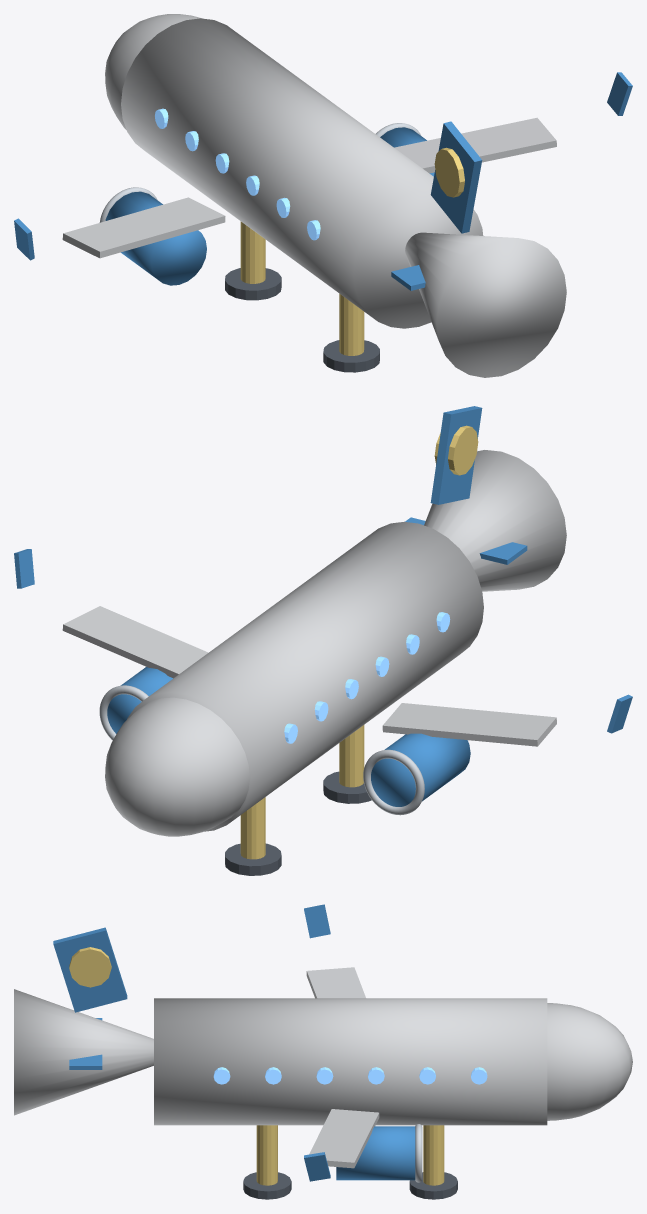
Rendered from airport_plane.glb.
3 views of the same model, one above another, from view 1: azimuth 30°, elevation 25°; view 2: azimuth 150°, elevation 25°; view 3: azimuth 270°, elevation 25° (orthographic). The views are drawn at different scales.
Parts seen in each view (by area): view 1: Cylinder, Cone, Cube.003, Cylinder.002, Cube.005, Sphere, Cube.001, Cylinder.018, Cylinder.016, Cylinder.017, Cylinder.019, Cylinder.001 (+4 smaller); view 2: Cylinder, Sphere, Cone, Cube.003, Cube.005, Cylinder.002, Cube.001, Cylinder.009, Torus, Cylinder.018, Cylinder.016, Cylinder.019 (+5 smaller); view 3: Cylinder, Cone, Sphere, Cylinder.009, Cube.001, Cube.005, Cube.003, Cylinder.001, Cylinder.018, Cylinder.016, Cylinder.017, Cylinder.019 (+4 smaller).
Part boxes in pixels (box(x1,y1,x2,y2)): Cylinder: box(121, 18, 483, 328); Cone: box(405, 232, 566, 377); Cube.003: box(62, 197, 225, 258); Cylinder.002: box(105, 191, 206, 285); Cube.005: box(394, 117, 556, 173); Sphere: box(105, 14, 202, 129); Cube.001: box(430, 121, 482, 233); Cylinder.018: box(240, 221, 265, 283); Cylinder.016: box(339, 293, 364, 355); Cylinder.017: box(323, 340, 379, 372); Cylinder.019: box(225, 268, 281, 300); Cylinder.001: box(434, 147, 464, 197); Cylinder: box(127, 521, 483, 831); Sphere: box(105, 697, 249, 836); Cone: box(424, 450, 566, 591); Cube.003: box(382, 703, 556, 746); Cube.005: box(62, 606, 208, 678); Cylinder.002: box(371, 733, 470, 806); Cube.001: box(430, 406, 482, 504); Cylinder.009: box(107, 667, 172, 733); Torus: box(363, 749, 424, 815); Cylinder.018: box(240, 797, 265, 859); Cylinder.016: box(339, 725, 364, 787); Cylinder.019: box(225, 843, 281, 875); Cylinder: box(154, 998, 547, 1125); Cone: box(14, 989, 153, 1115); Sphere: box(547, 1003, 632, 1120); Cylinder.009: box(336, 1126, 415, 1180); Cube.001: box(53, 927, 127, 1012); Cube.005: box(309, 1109, 379, 1168); Cube.003: box(306, 967, 365, 998); Cylinder.001: box(69, 947, 111, 987); Cylinder.018: box(423, 1125, 444, 1185); Cylinder.016: box(256, 1125, 277, 1185); Cylinder.017: box(243, 1172, 291, 1199); Cylinder.019: box(409, 1172, 457, 1199).
Bounding box in the file's own units: 3.92 × 1.9 × 4.09.
